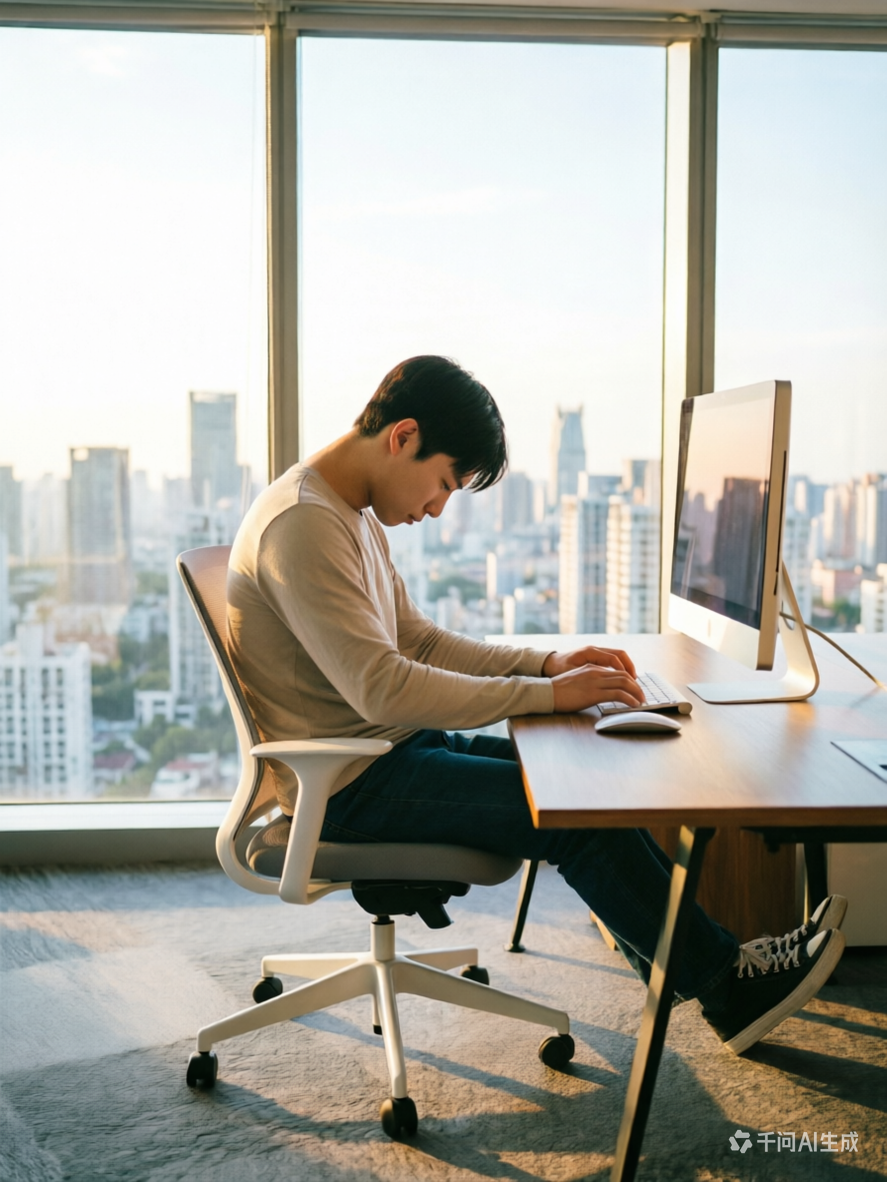sitting_bad: (224, 355, 835, 1056)
